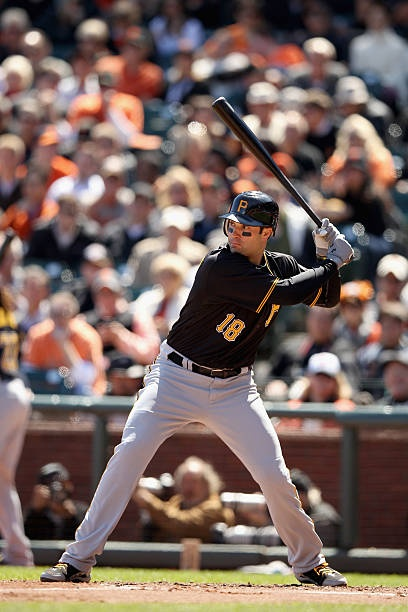bita: (215, 94, 356, 251)
